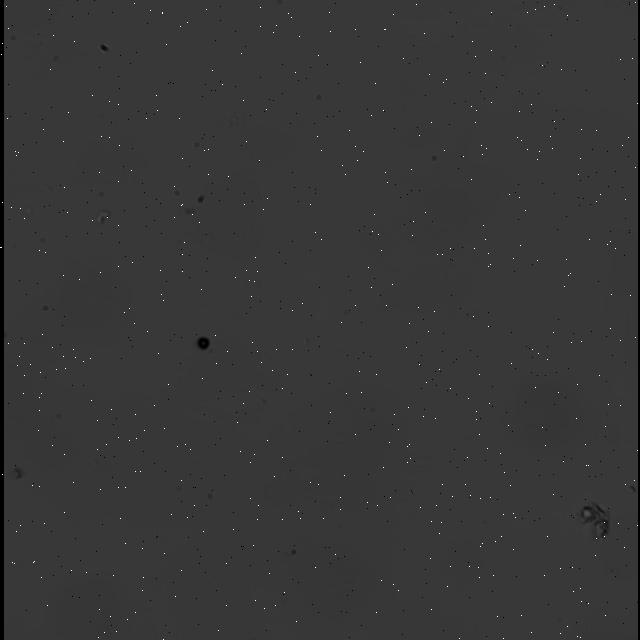microbeads: (193, 334, 213, 352)
